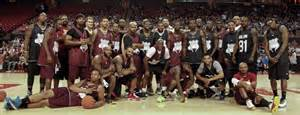basketball: (81, 95, 94, 109)
